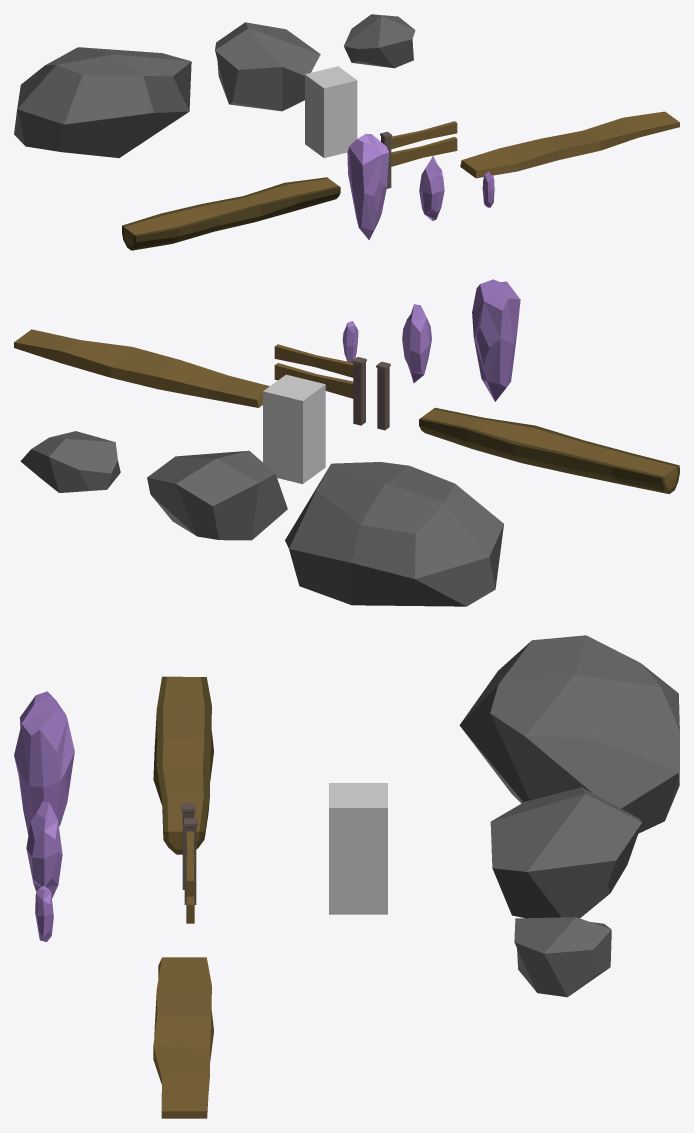
File: env_assets01.fbx
3 views of the same model, one above another, from view 1: azimuth 30°, elevation 25°; view 2: azimuth 150°, elevation 25°; view 3: azimuth 270°, elevation 25° (orthographic). The views are drawn at different scales.
Parts seen in each view (by area): view 1: Rock 02, Rock 01, Log 01, Plank, Cube, Magic Cristal 03, Rock 03, Fence 01, Magic Cristal 01, Magic Cristal 02; view 2: Rock 02, Rock 01, Log 01, Plank, Cube, Rock 03, Magic Cristal 03, Fence 01, Magic Cristal 01, Fence 02, Magic Cristal 02; view 3: Rock 02, Rock 01, Plank, Log 01, Cube, Rock 03, Magic Cristal 03, Magic Cristal 01, Fence 01, Magic Cristal 02.
Boxes of the visible parts, <box> form: Rock 02: <box>14,47,191,157</box>; Rock 01: <box>215,22,320,111</box>; Log 01: <box>122,177,340,250</box>; Plank: <box>460,111,679,178</box>; Cube: <box>305,66,357,157</box>; Magic Cristal 03: <box>347,133,388,239</box>; Rock 03: <box>344,14,415,68</box>; Fence 01: <box>380,121,457,188</box>; Magic Cristal 01: <box>419,155,444,220</box>; Magic Cristal 02: <box>482,171,494,207</box>; Rock 02: <box>285,462,503,606</box>; Rock 01: <box>147,450,287,540</box>; Log 01: <box>419,407,679,494</box>; Plank: <box>14,329,269,407</box>; Cube: <box>263,374,325,484</box>; Rock 03: <box>20,431,120,492</box>; Magic Cristal 03: <box>472,279,520,401</box>; Fence 01: <box>274,344,366,425</box>; Magic Cristal 01: <box>402,304,431,382</box>; Fence 02: <box>376,361,390,430</box>; Magic Cristal 02: <box>342,321,358,362</box>; Rock 02: <box>459,635,679,833</box>; Rock 01: <box>490,787,641,918</box>; Plank: <box>153,957,213,1118</box>; Log 01: <box>153,676,213,854</box>; Cube: <box>329,783,387,914</box>; Rock 03: <box>514,917,611,997</box>; Magic Cristal 03: <box>14,691,74,834</box>; Magic Cristal 01: <box>26,801,62,898</box>; Fence 01: <box>183,818,197,923</box>; Magic Cristal 02: <box>35,886,53,942</box>.
Bounding box in the file's own units: 1632 × 332 × 1130.
